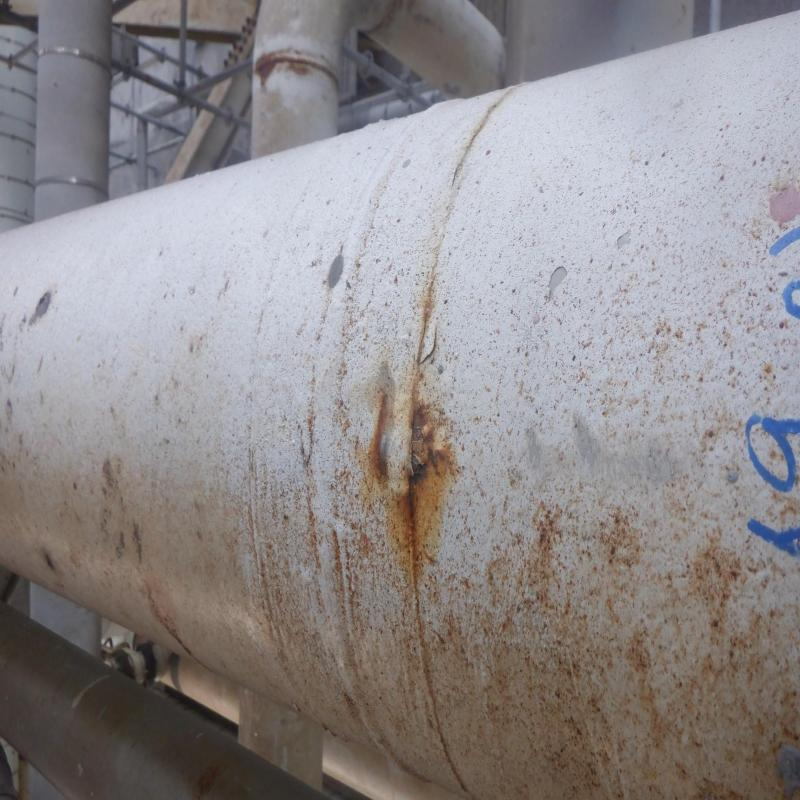corrosion: (364, 378, 448, 538), (413, 288, 441, 370)
